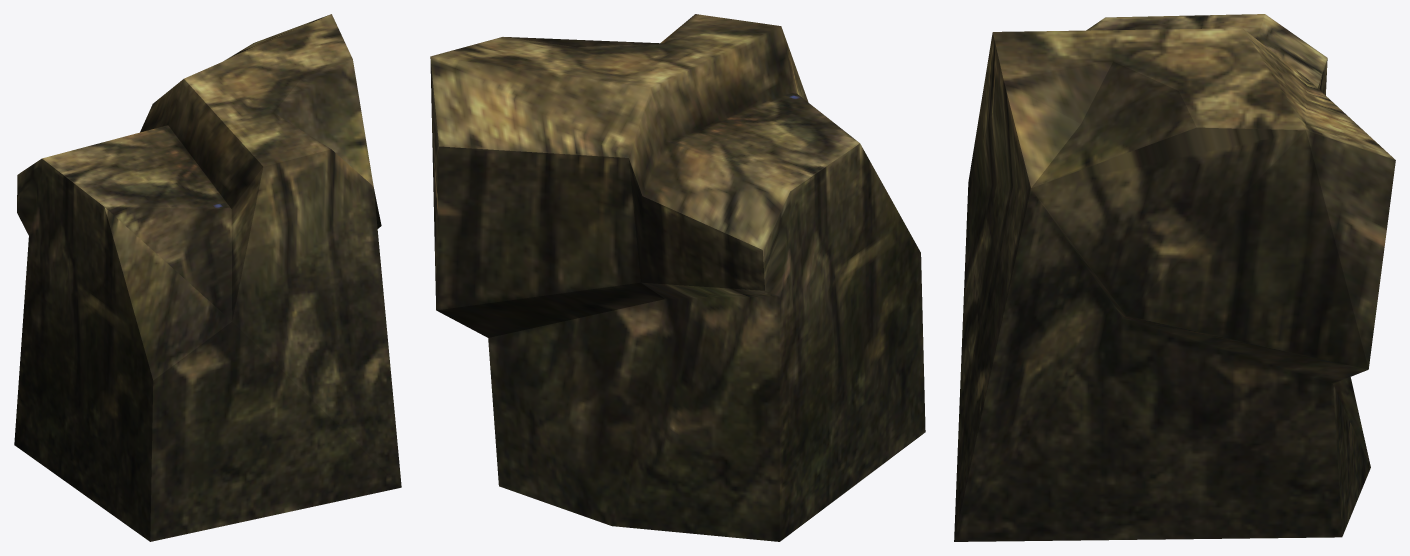
File: ts_yxobj005.FBX
The picture shows the model from 3 angles, left to right: view 1: azimuth 30°, elevation 25°; view 2: azimuth 150°, elevation 25°; view 3: azimuth 270°, elevation 25°; orthographic projection. The views are drawn at different scales.
Visible parts, largest first — view 1: ts_yxobj005; view 2: ts_yxobj005; view 3: ts_yxobj005.
Part boxes in pixels (x1,y1,x2,y2): ts_yxobj005: [14, 14, 401, 541]; ts_yxobj005: [430, 14, 925, 541]; ts_yxobj005: [954, 14, 1395, 541].
Bounding box in the file's own units: 3.74 × 4.04 × 3.56.
